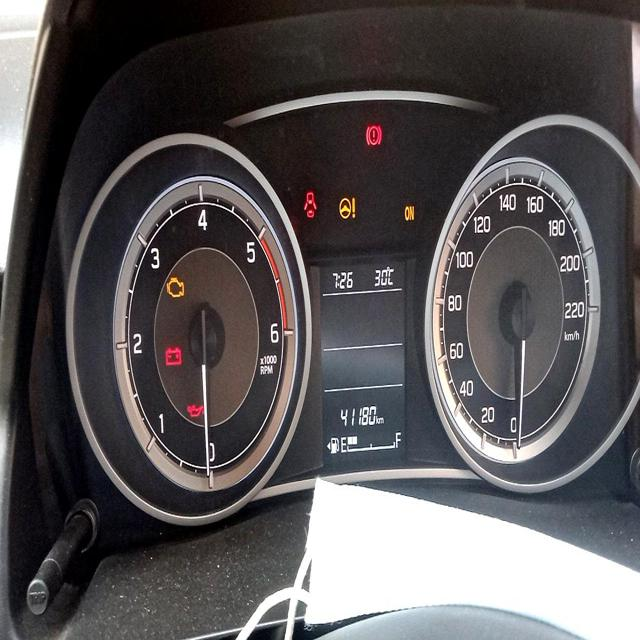odometer: (340, 402, 376, 429)
